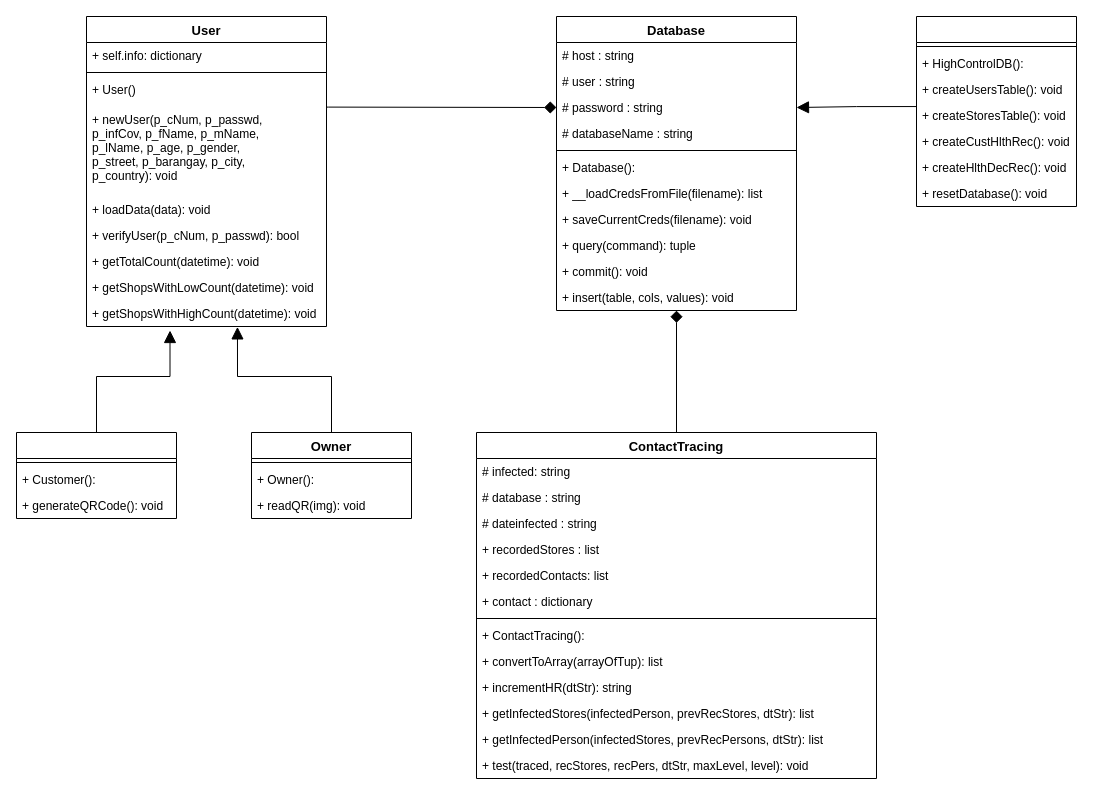
Some shapes in this 1093 by 795 pixel diagram are drawn without their labels. The shapes that lost their labels are listed below. From the top down, each one's box as (x1, y1, x2, y2) in pixels, then its label:
(916, 16, 1076, 206): HighContolDB
(16, 432, 176, 518): Costumer
